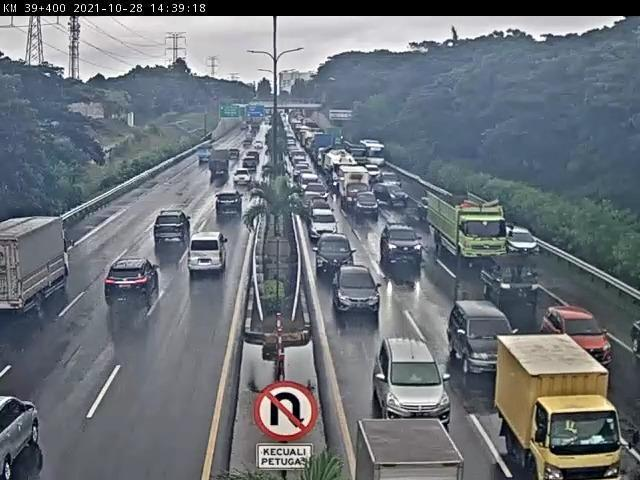car: (374, 340, 452, 424), (447, 299, 521, 376), (540, 305, 610, 367), (105, 259, 158, 305), (332, 269, 380, 314), (381, 225, 426, 263), (317, 231, 354, 273), (187, 235, 229, 271), (505, 223, 542, 263), (153, 211, 191, 245), (309, 208, 338, 242), (215, 193, 244, 218), (376, 185, 407, 206), (355, 192, 380, 215), (305, 191, 326, 211), (308, 199, 332, 215), (306, 184, 329, 200), (234, 169, 253, 186)
truck: (496, 338, 624, 480), (1, 217, 69, 316), (423, 189, 503, 262), (479, 252, 541, 302), (341, 170, 371, 205)
